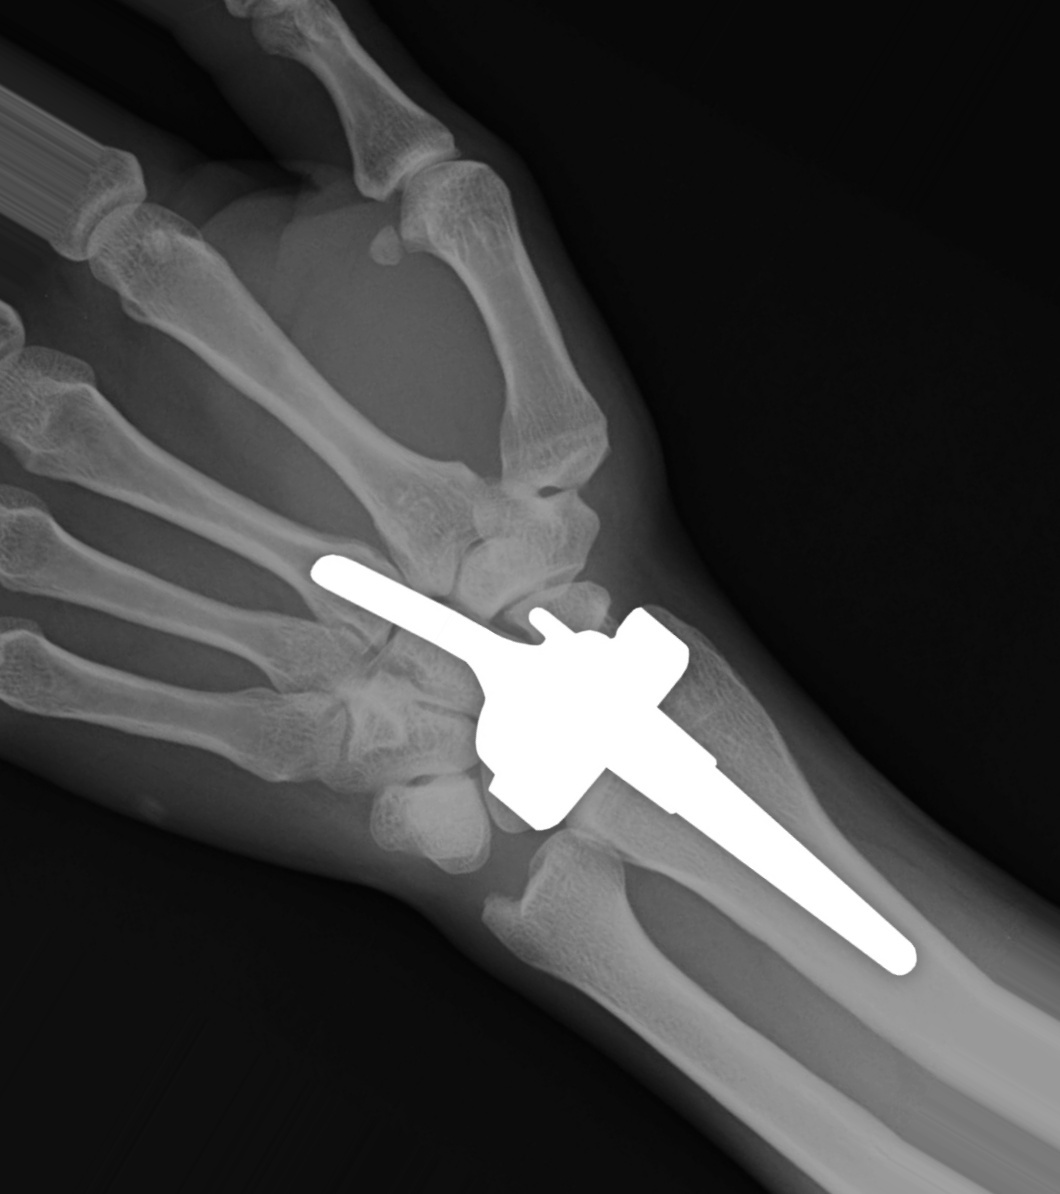Wrist-Biax-DePuuy: (272, 508, 926, 985)
